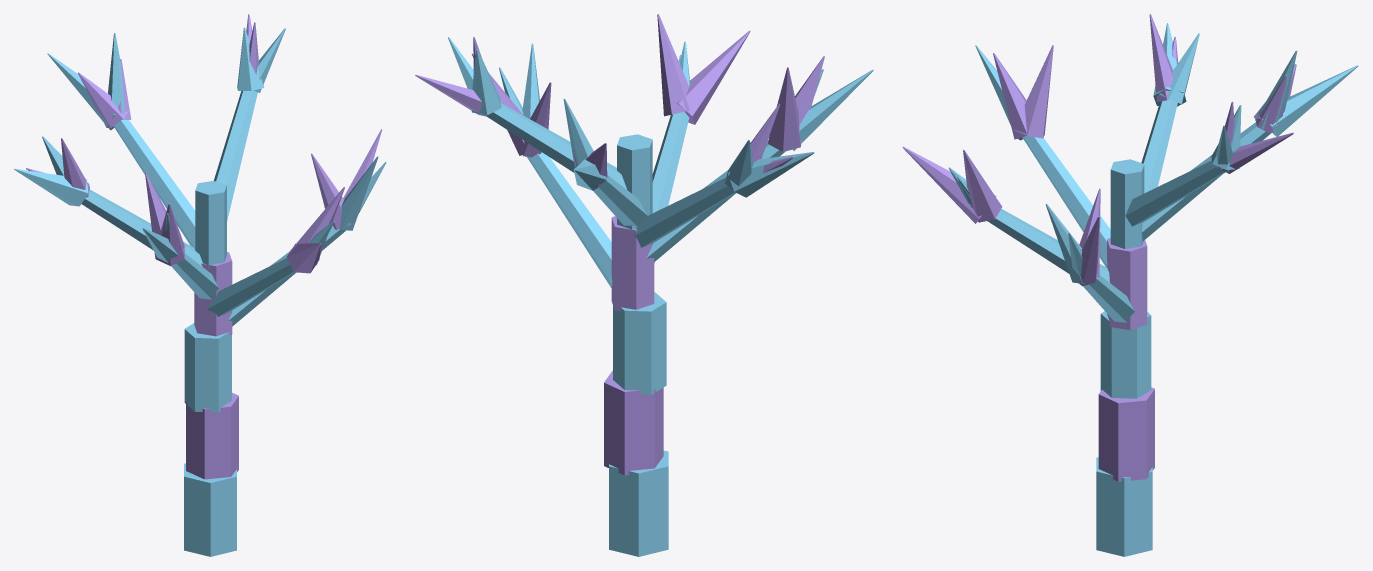
The model's file is ET_Tree_CrystalTree.obj.
3 views of the same model, side by side, from view 1: azimuth 30°, elevation 25°; view 2: azimuth 150°, elevation 25°; view 3: azimuth 270°, elevation 25° (orthographic). The views are drawn at different scales.
Parts seen in each view (by area): view 1: trunk_0, trunk_1, trunk_2, branch_4, trunk_4, branch_5, branch_1, trunk_3, branch_3, cluster_3_0, branch_2, cluster_0_2 (+13 smaller); view 2: trunk_0, trunk_1, trunk_2, trunk_3, branch_0, branch_3, branch_5, trunk_4, branch_1, cluster_1_1, cluster_1_3, cluster_2_3 (+13 smaller); view 3: trunk_1, trunk_0, trunk_2, trunk_3, trunk_4, branch_2, branch_5, branch_1, branch_3, cluster_2_3, cluster_4_0, branch_4 (+12 smaller).
Part boxes in pixels (x1=…): trunk_0: x1=184, y1=463, x2=236, y2=556; trunk_1: x1=186, y1=392, x2=238, y2=479; trunk_2: x1=184, y1=323, x2=231, y2=412; branch_4: x1=113, y1=120, x2=195, y2=248; trunk_4: x1=195, y1=180, x2=226, y2=268; branch_5: x1=214, y1=90, x2=257, y2=221; branch_1: x1=206, y1=258, x2=294, y2=316; trunk_3: x1=194, y1=252, x2=232, y2=336; branch_3: x1=81, y1=189, x2=202, y2=266; cluster_3_0: x1=14, y1=169, x2=88, y2=206; branch_2: x1=171, y1=253, x2=218, y2=299; cluster_0_2: x1=340, y1=156, x2=378, y2=230; trunk_0: x1=609, y1=450, x2=668, y2=556; trunk_1: x1=604, y1=370, x2=663, y2=475; trunk_2: x1=613, y1=292, x2=666, y2=394; trunk_3: x1=611, y1=216, x2=654, y2=311; branch_0: x1=527, y1=152, x2=612, y2=287; branch_3: x1=634, y1=178, x2=735, y2=247; branch_5: x1=487, y1=103, x2=626, y2=189; trunk_4: x1=617, y1=134, x2=652, y2=229; branch_1: x1=652, y1=112, x2=689, y2=263; cluster_1_1: x1=676, y1=30, x2=750, y2=124; cluster_1_3: x1=657, y1=14, x2=689, y2=116; cluster_2_3: x1=768, y1=67, x2=800, y2=151; trunk_1: x1=1098, y1=387, x2=1154, y2=481; trunk_0: x1=1096, y1=457, x2=1152, y2=556; trunk_2: x1=1100, y1=311, x2=1151, y2=398; trunk_3: x1=1107, y1=238, x2=1147, y2=330; trunk_4: x1=1110, y1=159, x2=1144, y2=248; branch_2: x1=1022, y1=136, x2=1110, y2=267; branch_5: x1=1125, y1=160, x2=1225, y2=226; branch_1: x1=987, y1=209, x2=1109, y2=282; branch_3: x1=1141, y1=99, x2=1177, y2=193; cluster_2_3: x1=1013, y1=45, x2=1053, y2=138; cluster_4_0: x1=1270, y1=65, x2=1358, y2=136; branch_4: x1=1142, y1=122, x2=1270, y2=240.
Bounding box in the file's own units: 11.41 × 14.98 × 12.62.
